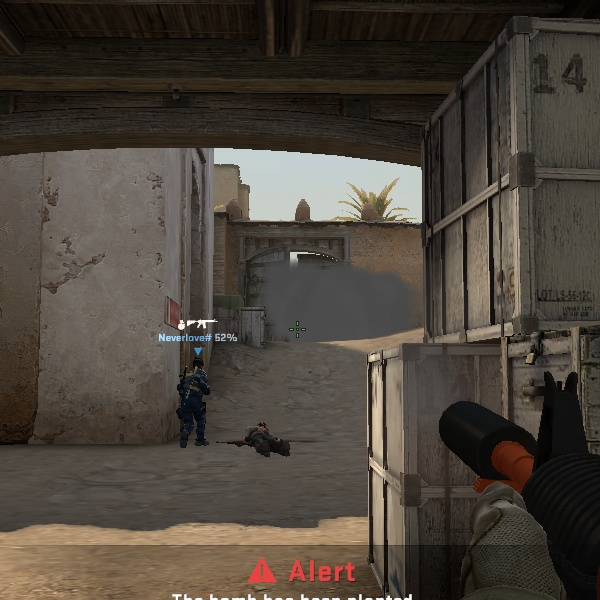ct_body: (177, 357, 212, 448)
ct_head: (192, 358, 204, 373)
